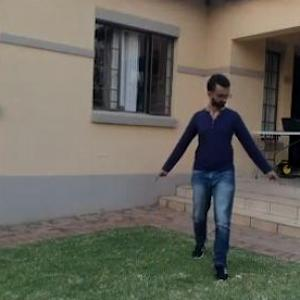land: (157, 77, 282, 284)
